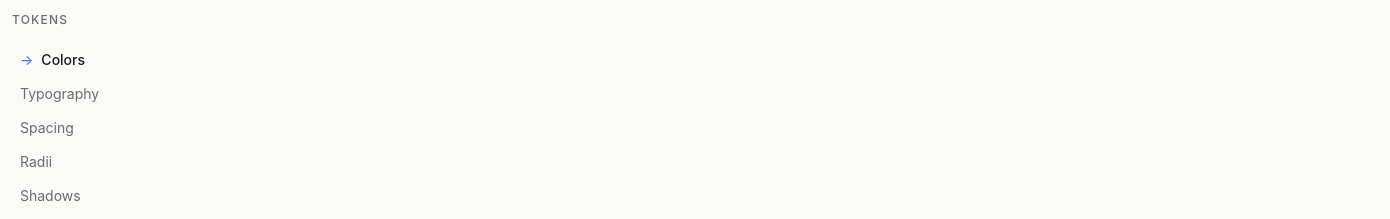
Test case: TokenCategoryNav › changes active category on click
The image size is (1390, 219).
Click the button "Spacing" at [47, 128], box [12, 112, 1378, 144]
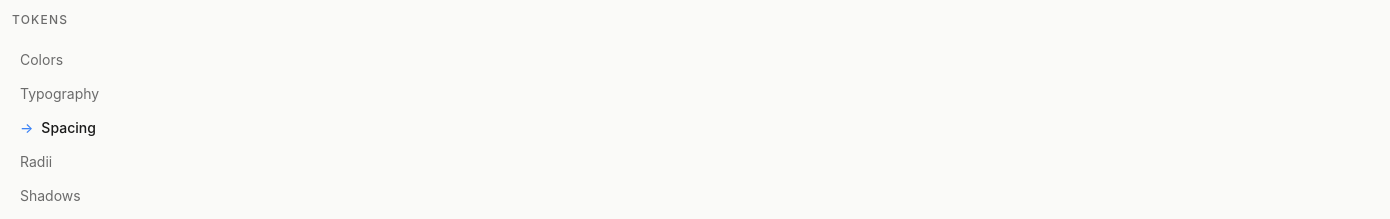
Result: the button "→ Spacing" is shown at [12, 112, 1378, 144]
